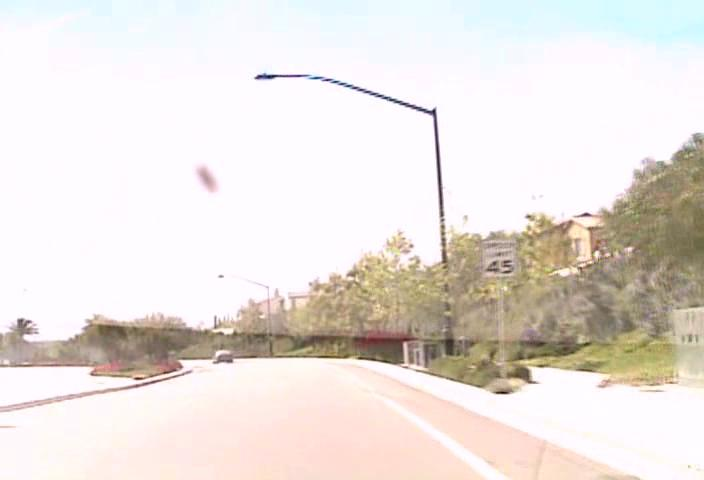speedLimit45: (480, 237, 517, 277)
